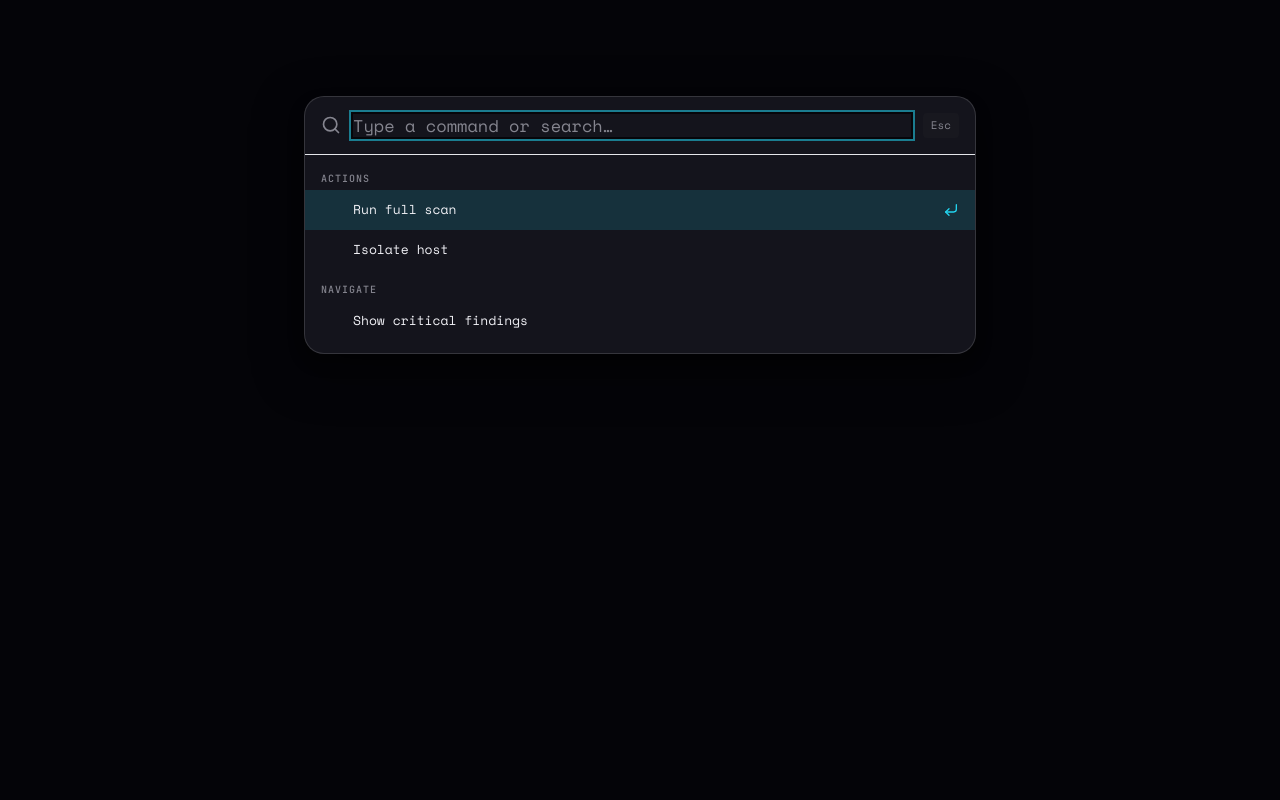
Test: CommandBar › appends AI suggestions from the natural-language resolver
Type "show me prod findings from yesterday" into the dropdown at [632, 125], box [353,114,911,137]
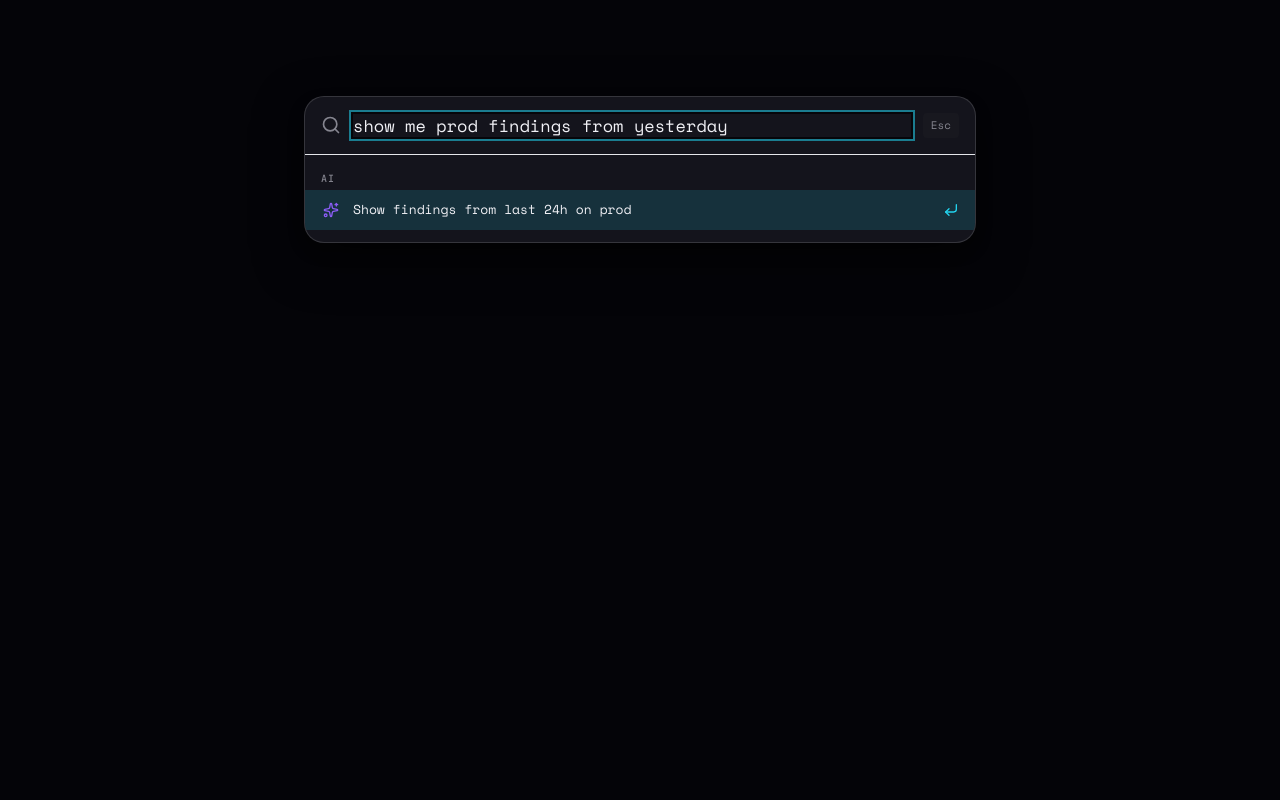
Now the text "Show findings from last 24h on prod" is shown, box [353,199,632,219]
